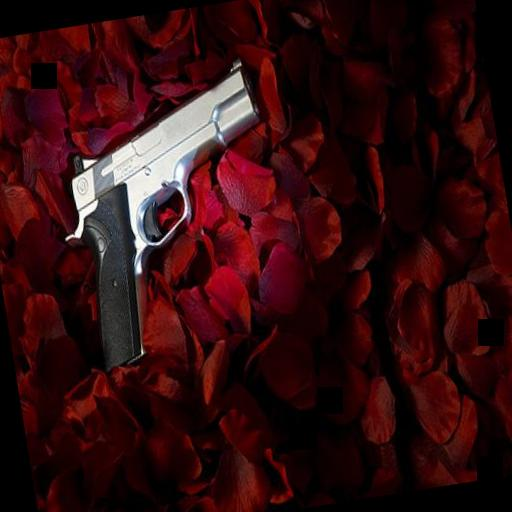Handgun: (38, 52, 296, 378)
